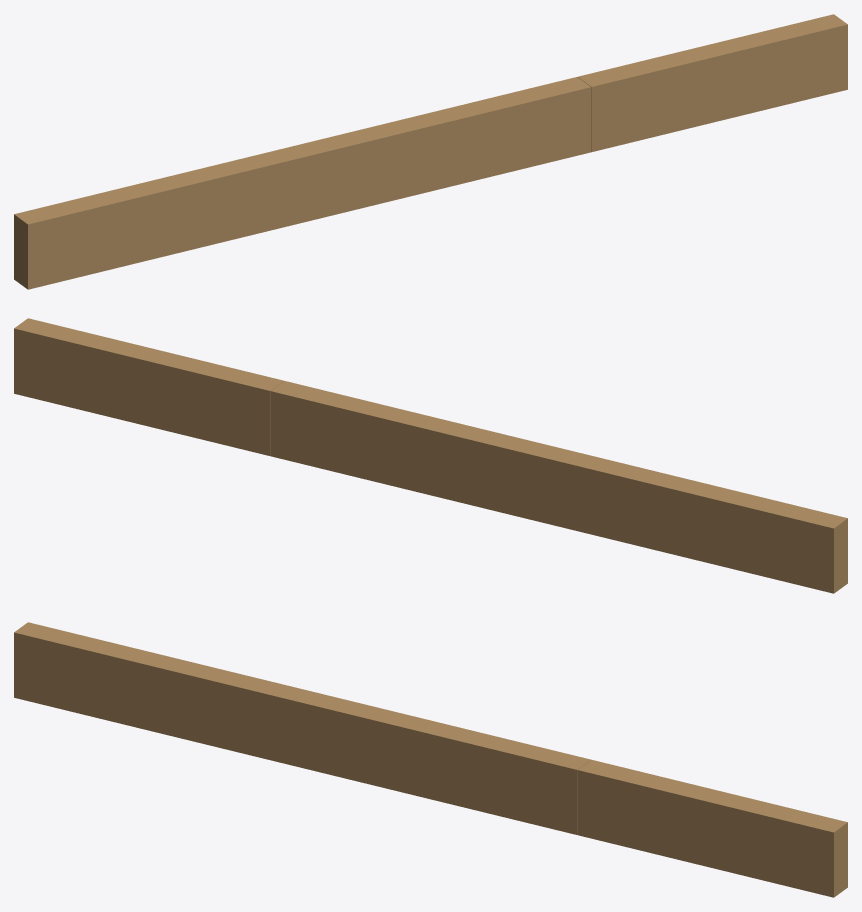
File: dosu.fbx
3 renders of one model, top to bottom at view 1: azimuth 30°, elevation 25°; view 2: azimuth 150°, elevation 25°; view 3: azimuth 330°, elevation 25°, orthographic.
Visible parts, largest first — view 1: dosu_saya, dosu; view 2: dosu_saya, dosu; view 3: dosu_saya, dosu.
Part boxes in pixels (<box>): dosu_saya: <box>14,77,591,289</box>; dosu: <box>578,14,847,152</box>; dosu_saya: <box>270,381,847,593</box>; dosu: <box>14,318,283,456</box>; dosu_saya: <box>14,622,590,834</box>; dosu: <box>577,759,847,897</box>.
Bounding box in the file's own units: 0.5155 × 0.0392 × 0.0153.
